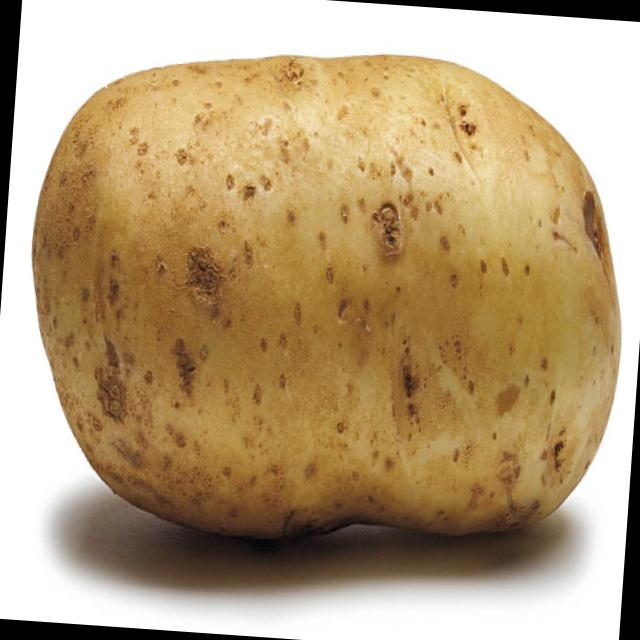potato: (6, 28, 632, 574)
